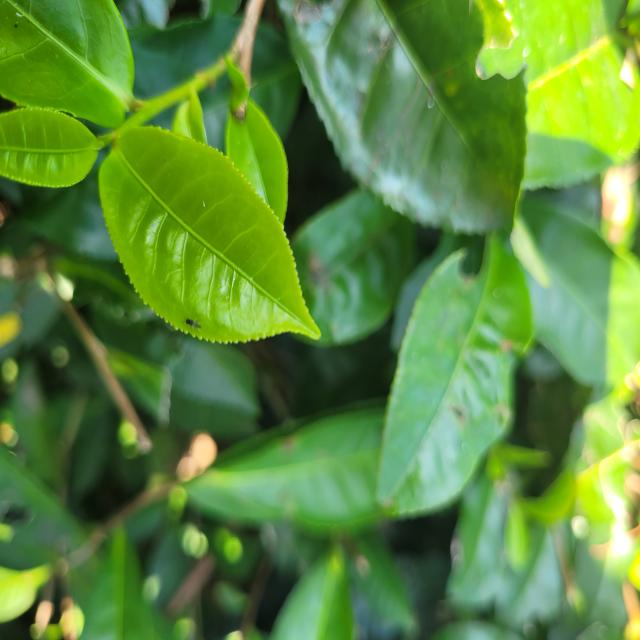Catagory A(1-2 days): (0, 102, 100, 196)
